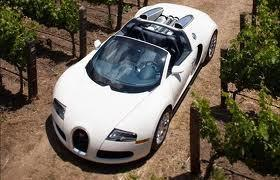Car: (43, 1, 225, 174)
